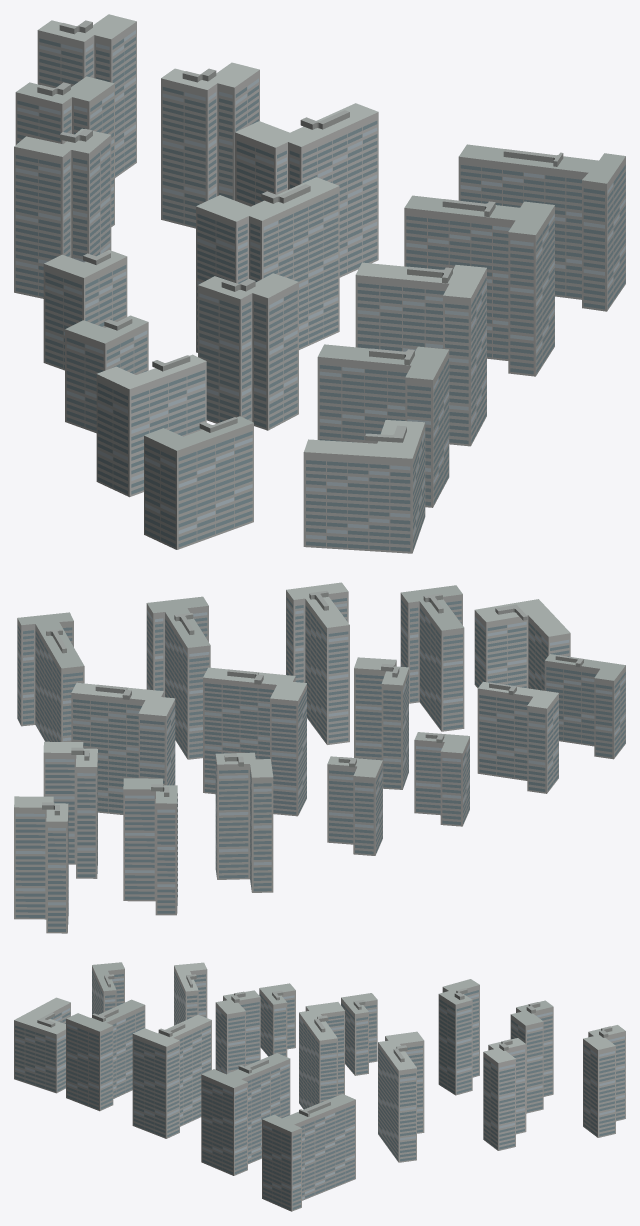
File: apt-a13113008.glb
3 views of the same model, one above another, from view 1: azimuth 30°, elevation 25°; view 2: azimuth 150°, elevation 25°; view 3: azimuth 270°, elevation 25° (orthographic). The views are drawn at different scales.
Parts seen in each view (by area): view 1: apt-a13113008; view 2: apt-a13113008; view 3: apt-a13113008.
Part boxes in pixels (x1=…): apt-a13113008: x1=14, y1=14, x2=625, y2=553; apt-a13113008: x1=14, y1=582, x2=625, y2=933; apt-a13113008: x1=14, y1=962, x2=625, y2=1211.
Size of the model in its own units: 286 by 68 by 394.
